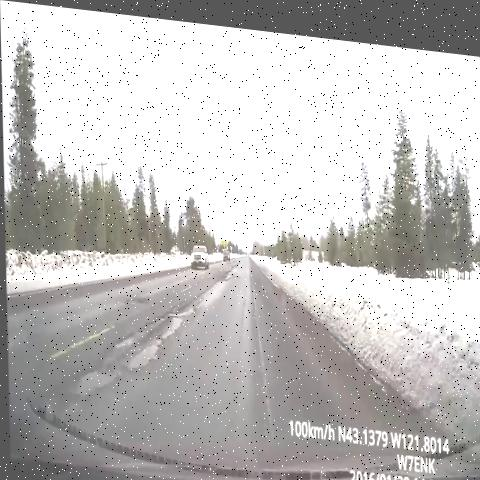pothole: (112, 300, 186, 374), (52, 350, 125, 415), (116, 277, 159, 318), (172, 285, 205, 318), (211, 255, 238, 284)
